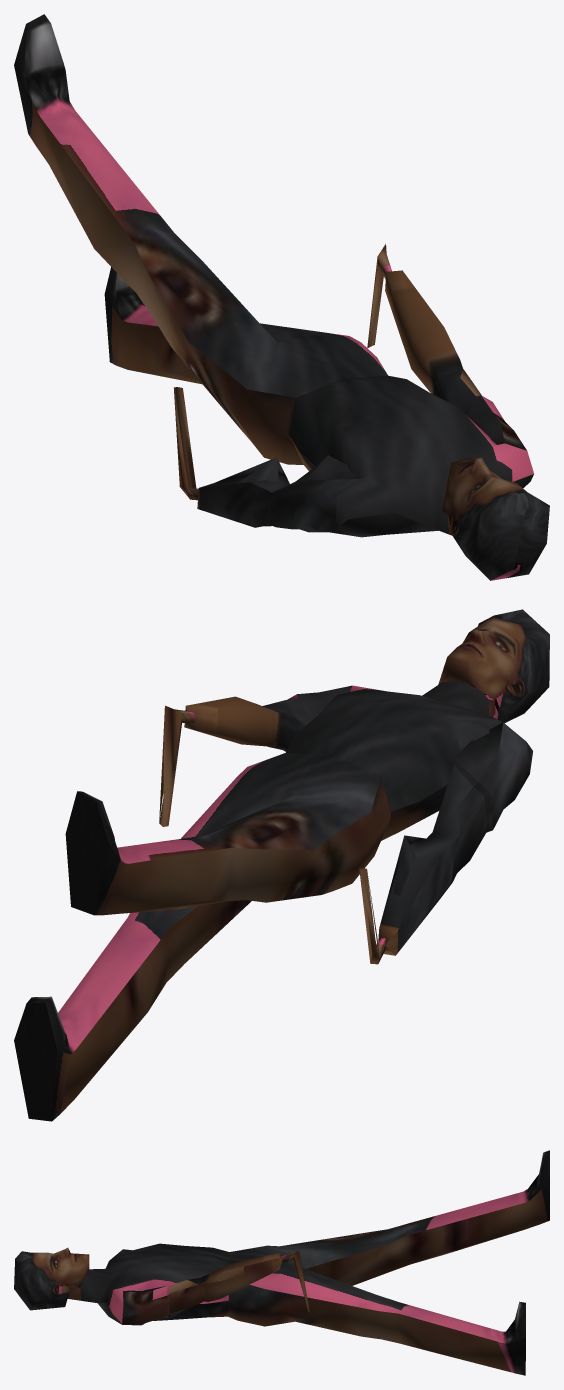
File: npc_raka_walk2.obj
3 renders of one model, top to bottom at view 1: azimuth 30°, elevation 25°; view 2: azimuth 150°, elevation 25°; view 3: azimuth 270°, elevation 25°, orthographic. The views are drawn at different scales.
Visible parts, largest first — view 1: npc_raka_walk2; view 2: npc_raka_walk2; view 3: npc_raka_walk2.
Boxes of the visible parts, x1=… form: npc_raka_walk2: x1=14, y1=14, x2=549, y2=580; npc_raka_walk2: x1=14, y1=609, x2=549, y2=1121; npc_raka_walk2: x1=14, y1=1150, x2=549, y2=1375.
Size of the model in its own units: 0.4684 by 0.7374 by 1.75.
Materials: 1 (1 with a texture image).
